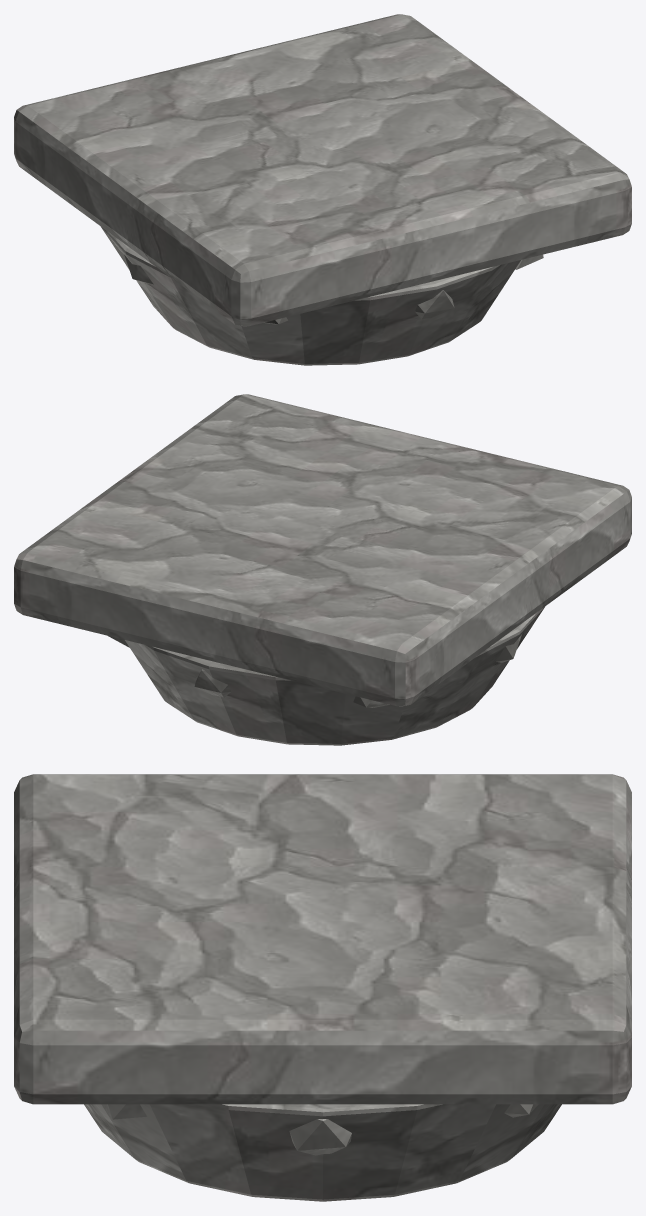
The model's file is column_capital__plank_root.glb.
3 views of the same model, one above another, from view 1: azimuth 30°, elevation 25°; view 2: azimuth 150°, elevation 25°; view 3: azimuth 270°, elevation 25° (orthographic). The views are drawn at different scales.
Visible parts, largest first — view 1: model; view 2: model; view 3: model.
Part boxes in pixels (x1,y1,x2,y2): model: (14,14,631,365); model: (14,394,631,745); model: (14,774,631,1201).
Size of the model in its own units: 0.8 by 0.3 by 0.8.
2 materials, 2 textured.
